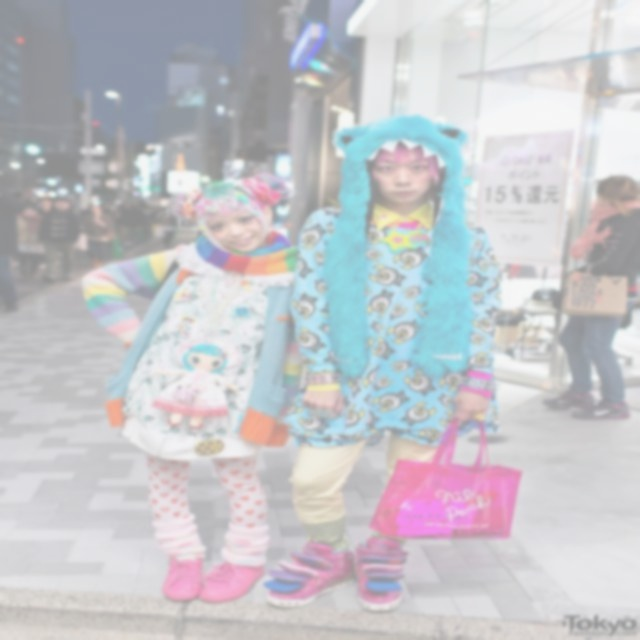pessoa: (252, 110, 524, 619), (76, 170, 304, 604), (536, 170, 639, 424), (37, 196, 83, 285), (10, 201, 46, 287), (76, 202, 115, 271), (153, 200, 184, 256), (112, 198, 138, 248), (129, 196, 156, 244), (0, 250, 18, 314), (33, 196, 55, 216)
